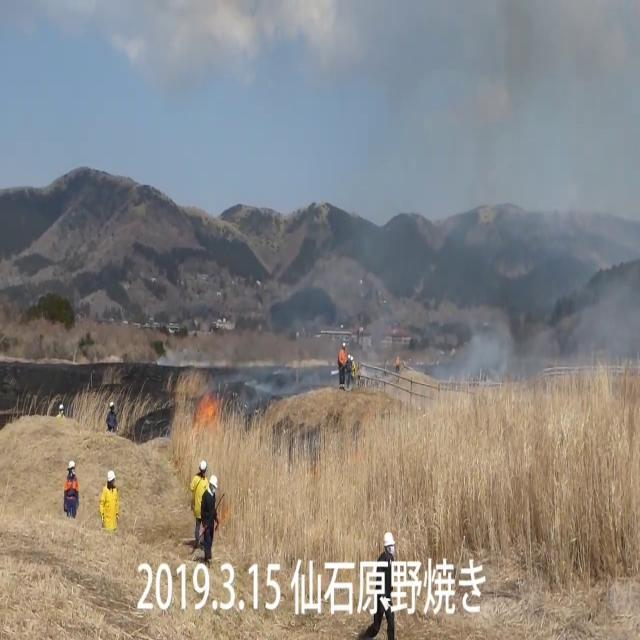Fire: (180, 376, 224, 449)
Smoke: (419, 0, 640, 395)
